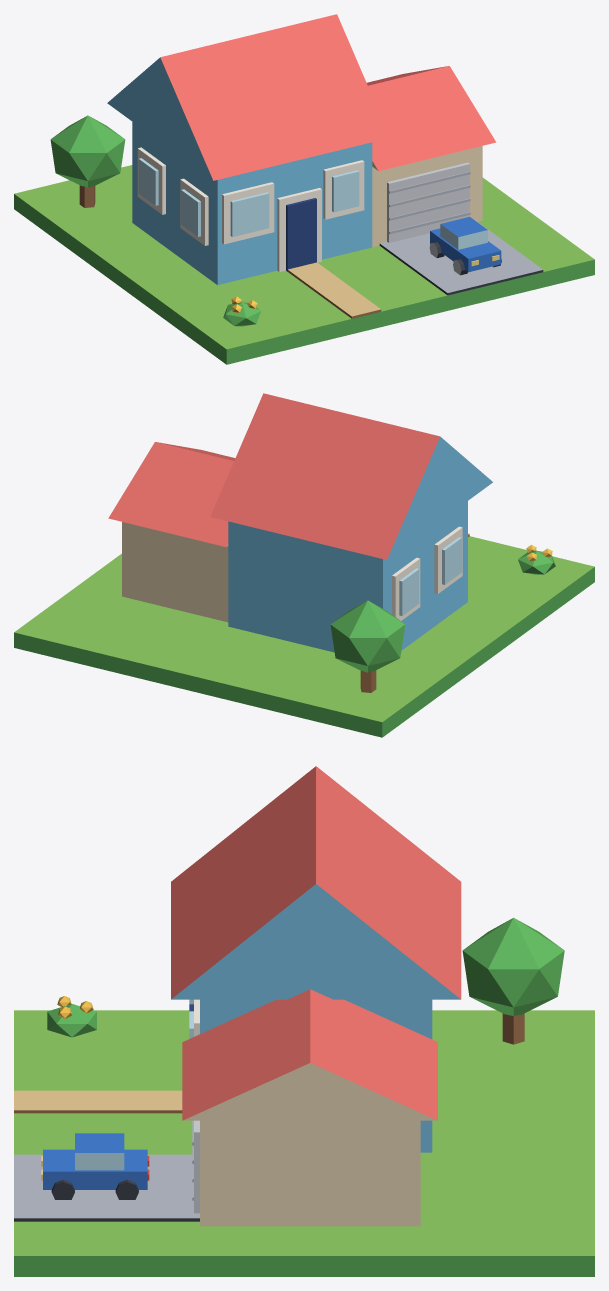
Rendered from house_garage.glb.
The picture shows the model from 3 angles, top to bottom: view 1: azimuth 30°, elevation 25°; view 2: azimuth 150°, elevation 25°; view 3: azimuth 270°, elevation 25°; orthographic projection. The views are drawn at different scales.
Parts seen in each view (by area): view 1: house_garage; view 2: house_garage; view 3: house_garage.
Boxes of the visible parts, box(x1,y1,x2,y2) form: house_garage: box(14, 14, 594, 364); house_garage: box(14, 393, 594, 737); house_garage: box(14, 766, 594, 1276).
Bounding box in the file's own units: 1 × 0.56 × 1.
